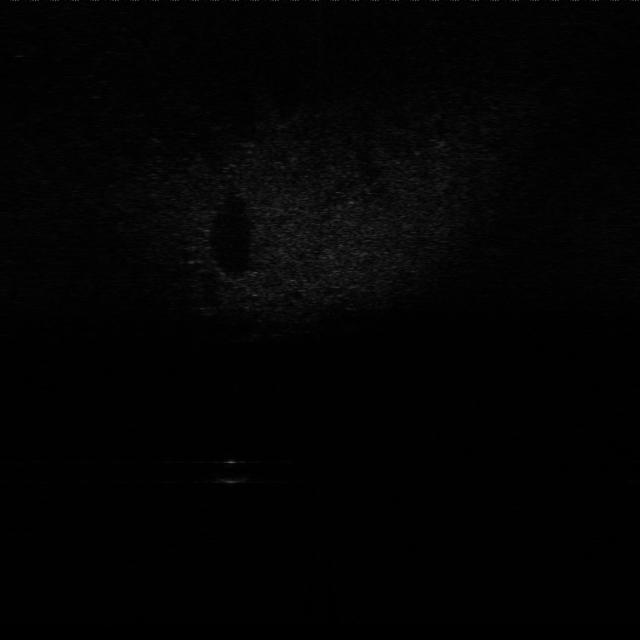ball: (211, 453, 258, 488)
